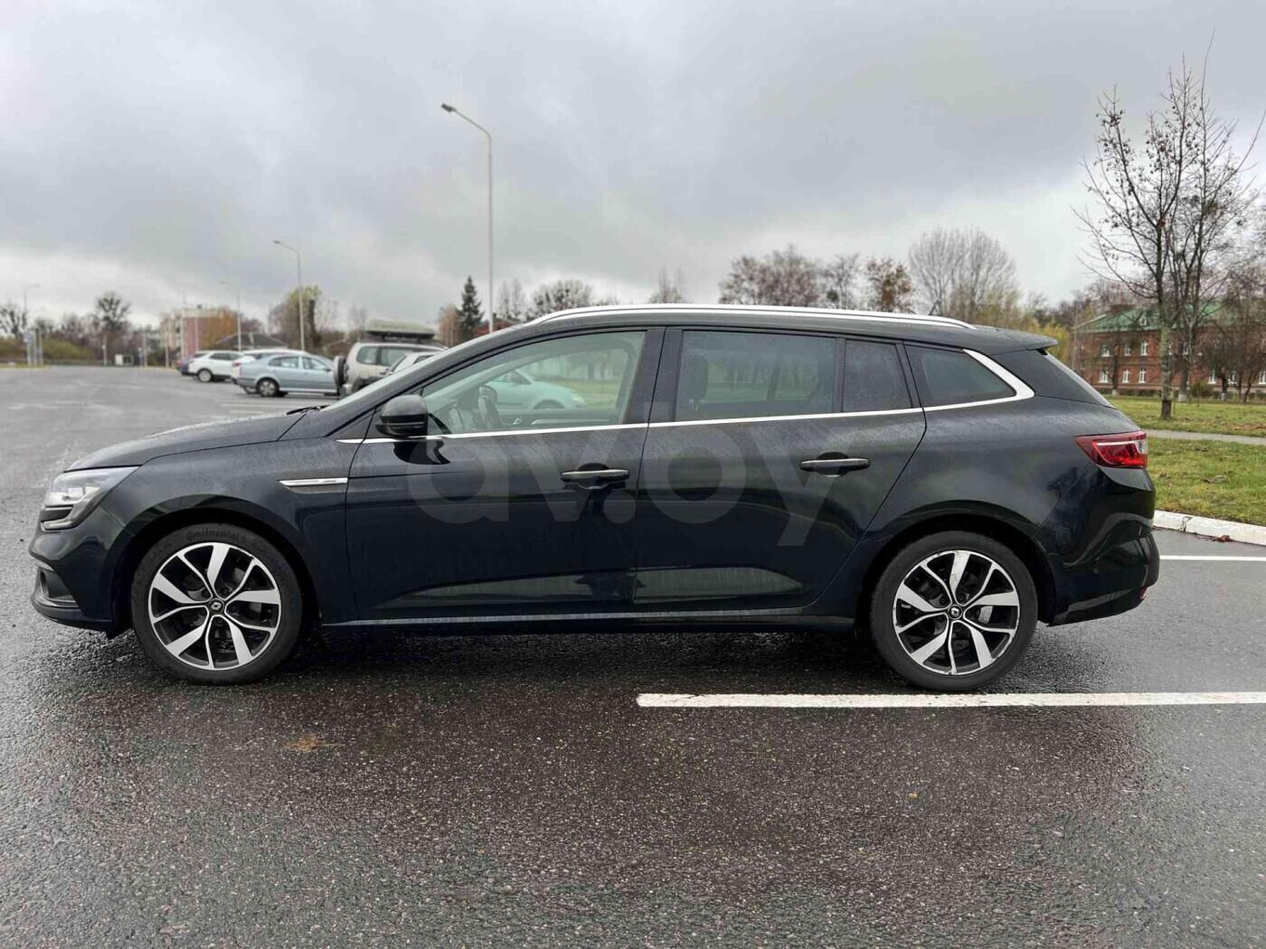Megane_2016-2020: (26, 296, 1167, 704)
